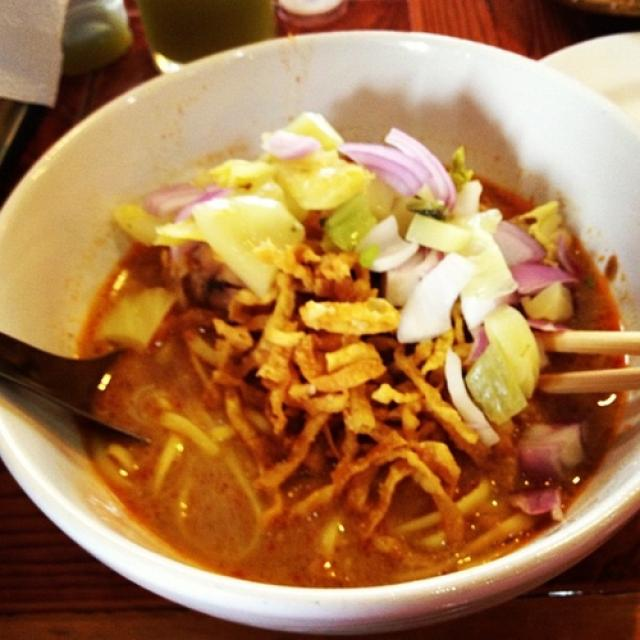面条主食: (1, 21, 638, 631)
